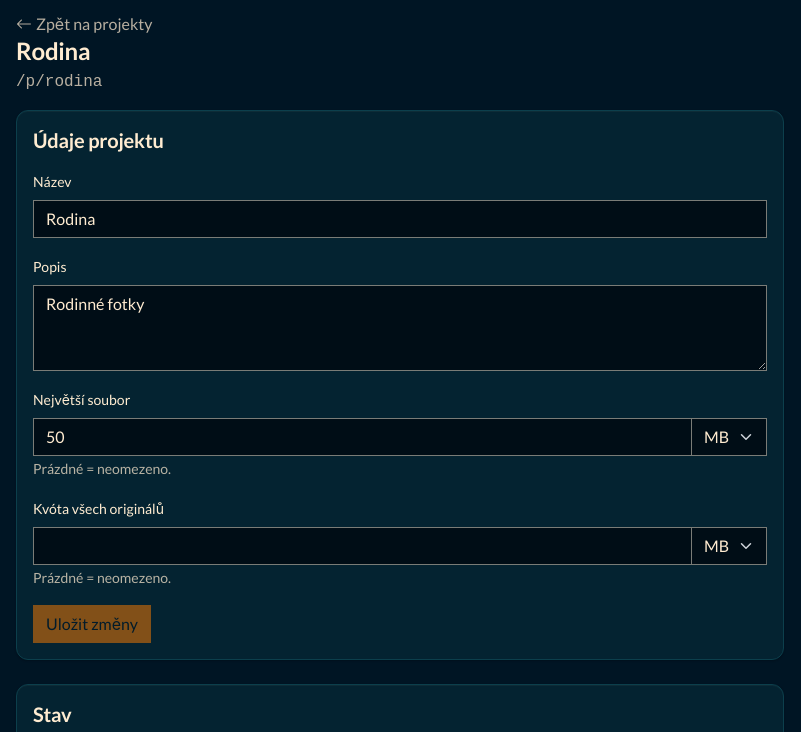
Test case: SystemProjectPage › re-reads the session after a rename, so the switcher and the title follow
The image size is (801, 732).
Replace the text in the field labelled "Název" with "Rodina Novákových". click: point(400, 219)
box: x1=33 y1=200 x2=767 y2=238
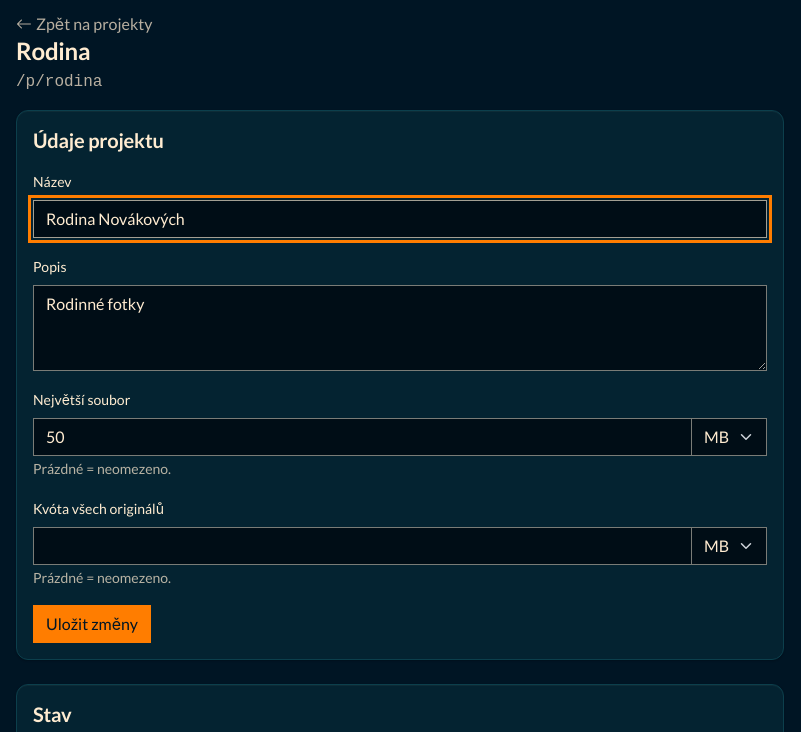
Click the button "Uložit změny". click: point(92, 624)
box: x1=33 y1=605 x2=151 y2=643
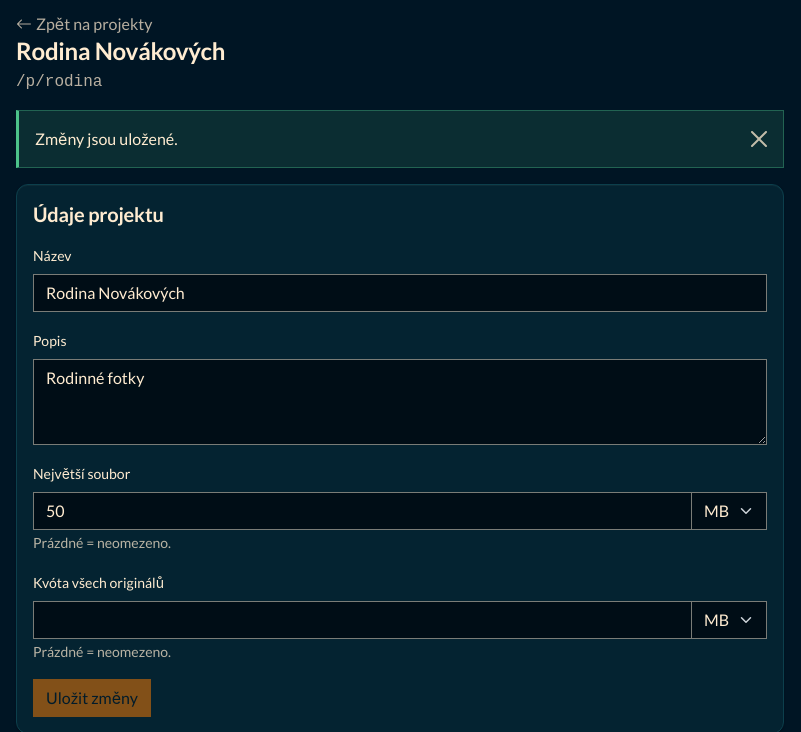
Check: the text "Změny jsou uložené." is shown, box x1=16 y1=110 x2=784 y2=168
